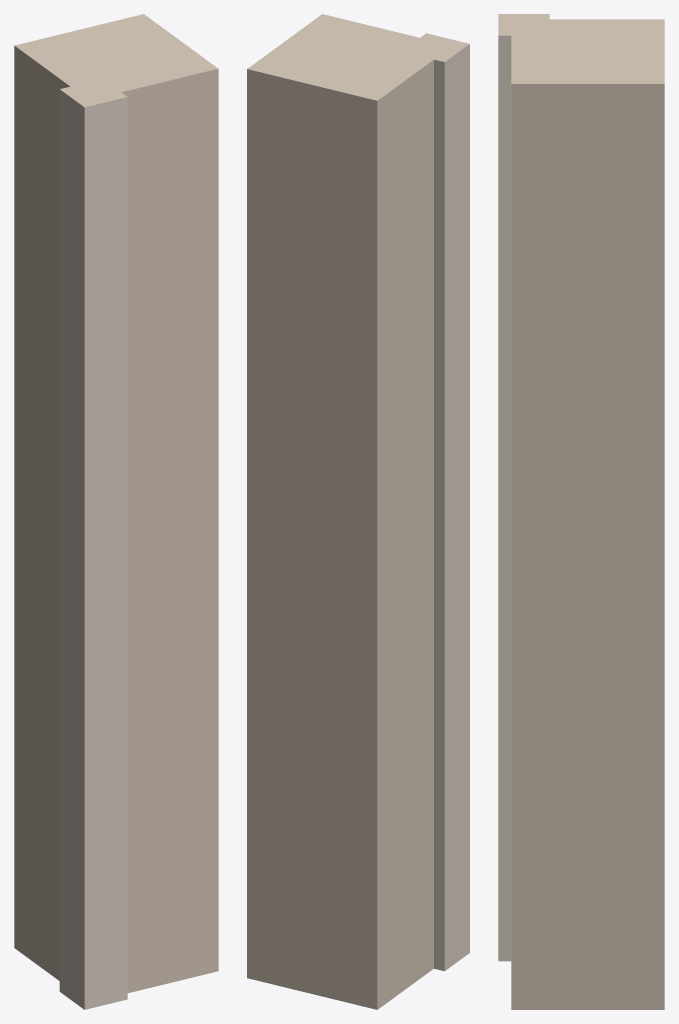
File: Structure_Exterior_Wall_Corner.fbx
3 views of the same model, side by side, from view 1: azimuth 30°, elevation 25°; view 2: azimuth 150°, elevation 25°; view 3: azimuth 270°, elevation 25° (orthographic). The views are drawn at different scales.
Parts seen in each view (by area): view 1: object1.073; view 2: object1.073; view 3: object1.073.
Boxes of the visible parts, <box> form: object1.073: <box>14,14,218,1009</box>; object1.073: <box>247,14,469,1009</box>; object1.073: <box>498,14,664,1009</box>.
Size of the model in its own units: 16.25 by 100 by 16.25.
